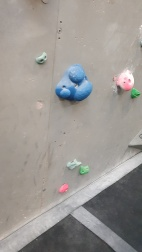Jug: (113, 68, 135, 91)
Sloper: (56, 63, 93, 103)
